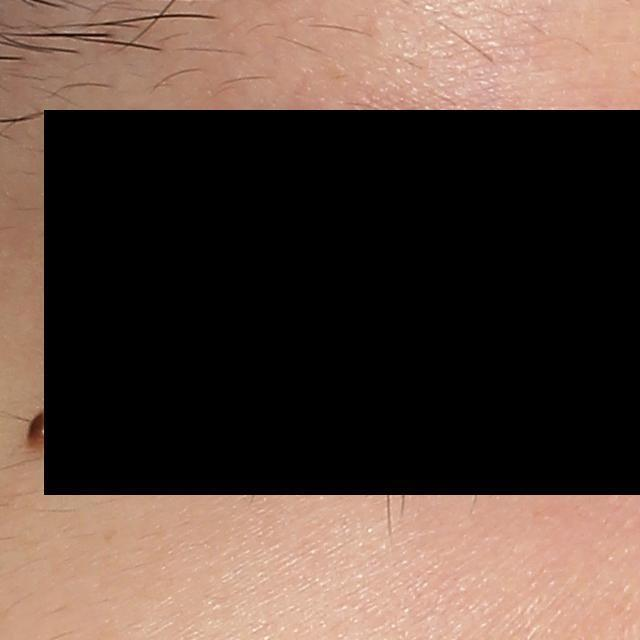nevus: (26, 402, 63, 450)
